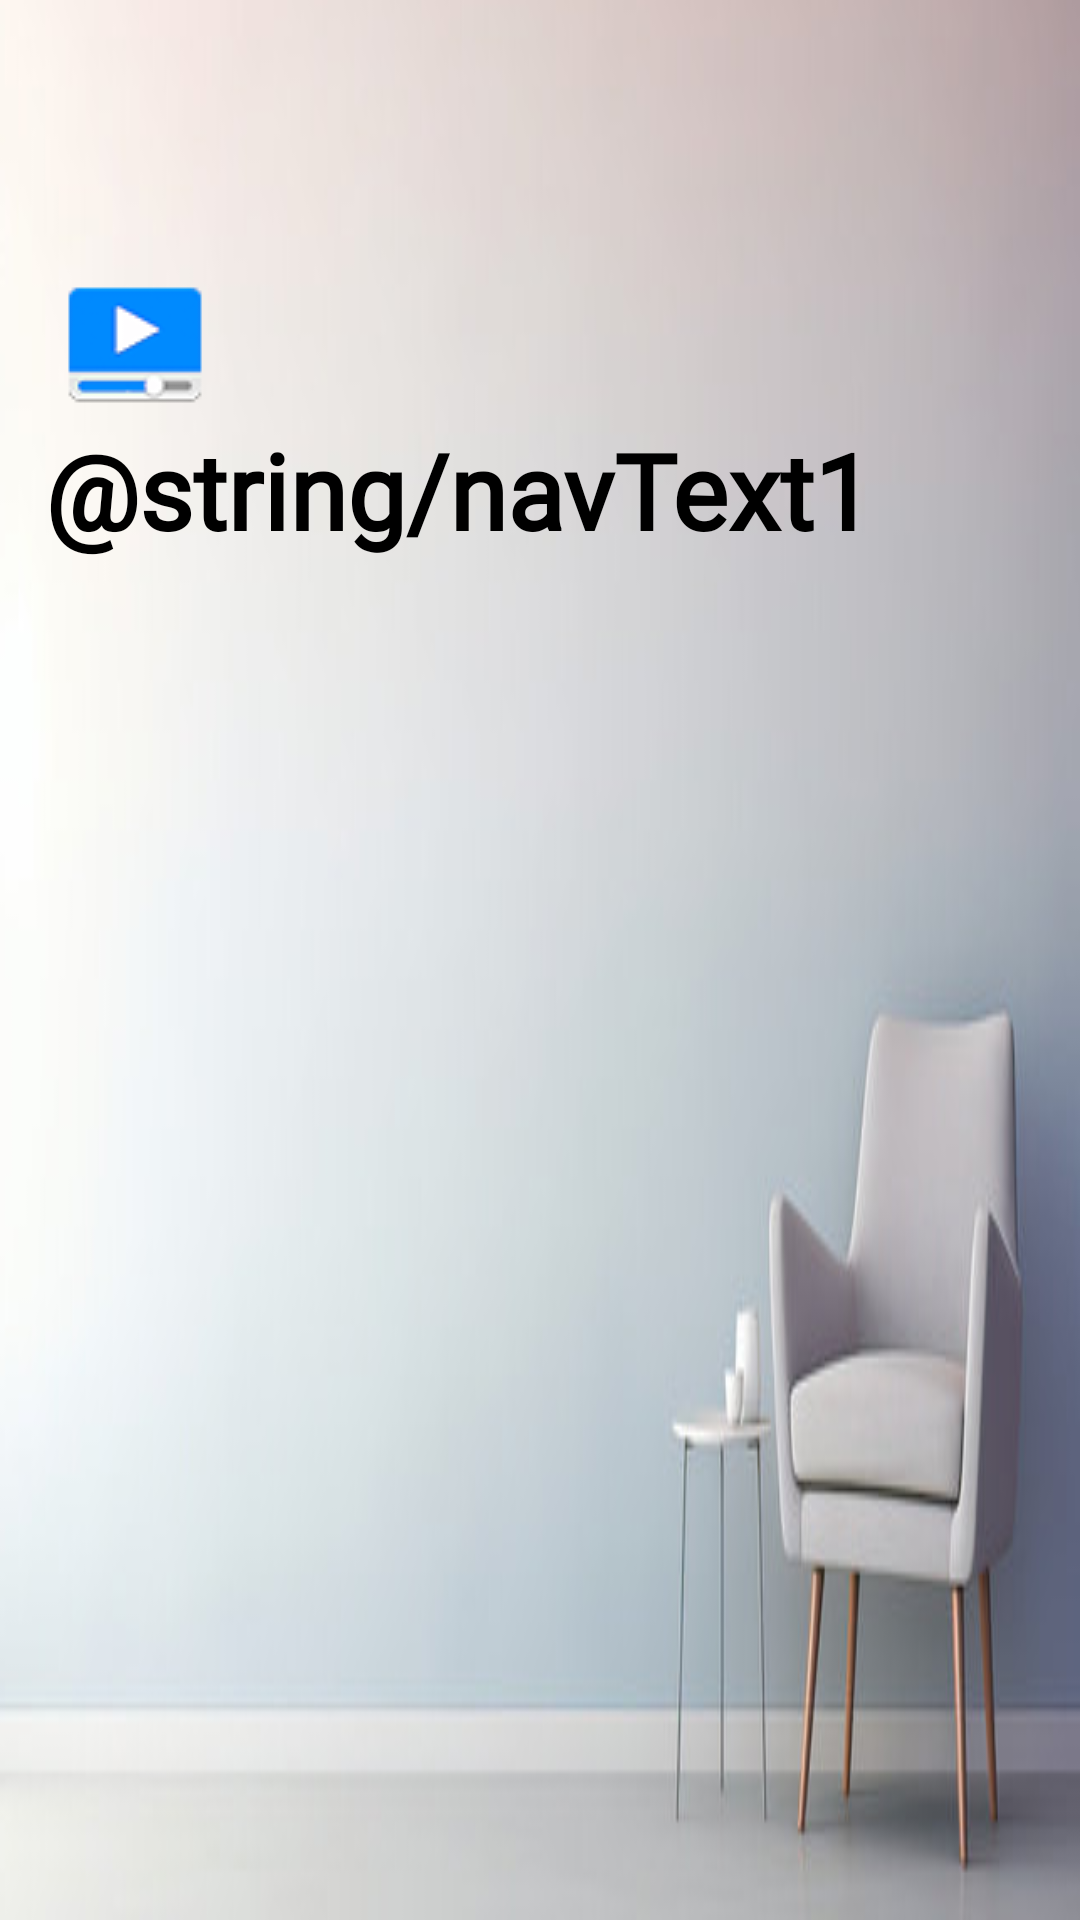

Icon bounding boxes for this 1080px x 1920px phone screenshot, format (x1=x1, y1=y1, x2=x2, y2=y2):
video player: (x1=68, y1=287, x2=202, y2=403)
